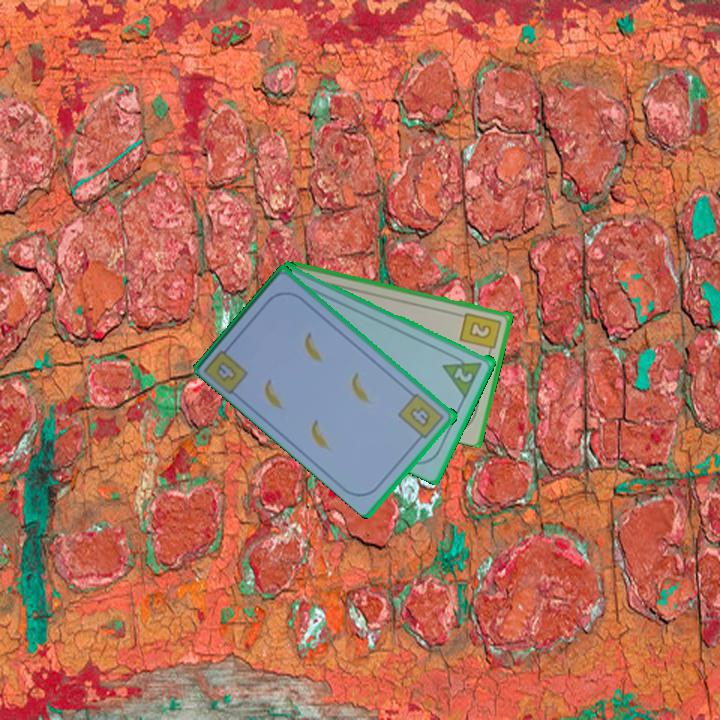2b: (457, 309, 504, 357)
2p: (451, 364, 476, 385)
4b: (201, 339, 252, 396), (395, 390, 448, 444)
